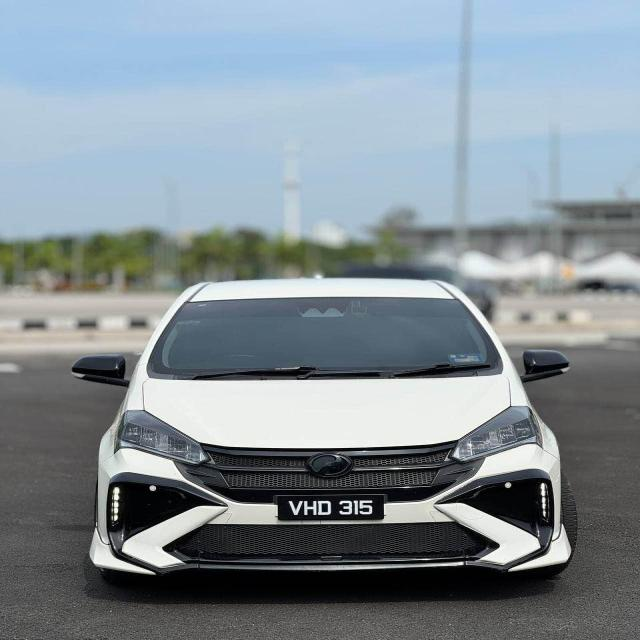PeroduaMyvi: (70, 275, 579, 585)
